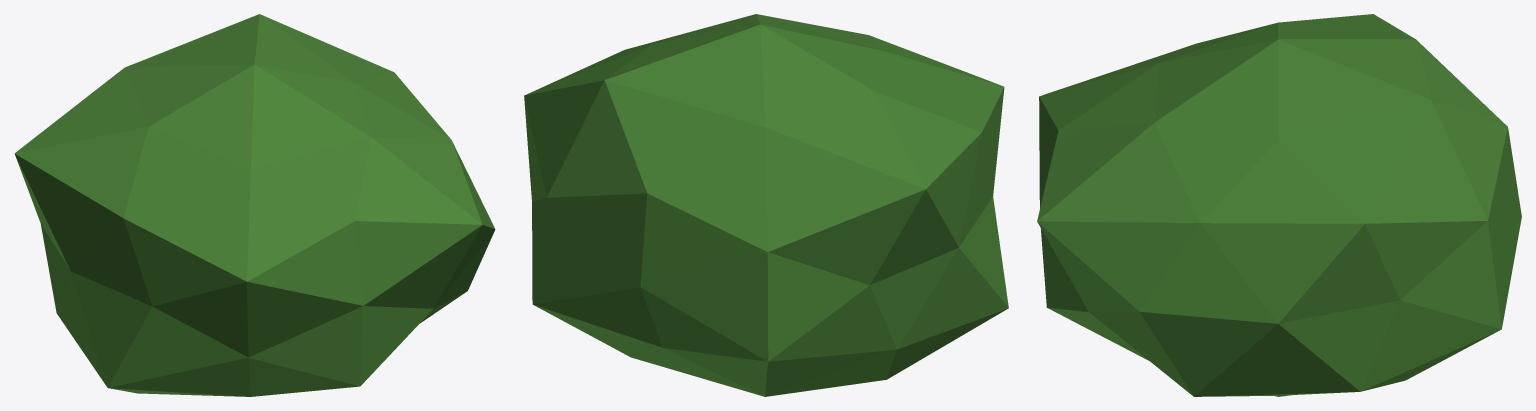
File: Bush.glb
The picture shows the model from 3 angles, left to right: view 1: azimuth 30°, elevation 25°; view 2: azimuth 150°, elevation 25°; view 3: azimuth 270°, elevation 25°; orthographic projection. The views are drawn at different scales.
Parts seen in each view (by area): view 1: Bush; view 2: Bush; view 3: Bush.
Part boxes in pixels (x1,y1,x2,y2): Bush: (14,14,495,396); Bush: (524,14,1008,396); Bush: (1037,14,1521,396).
Size of the model in its own units: 0.2983 by 0.2343 by 0.288.
